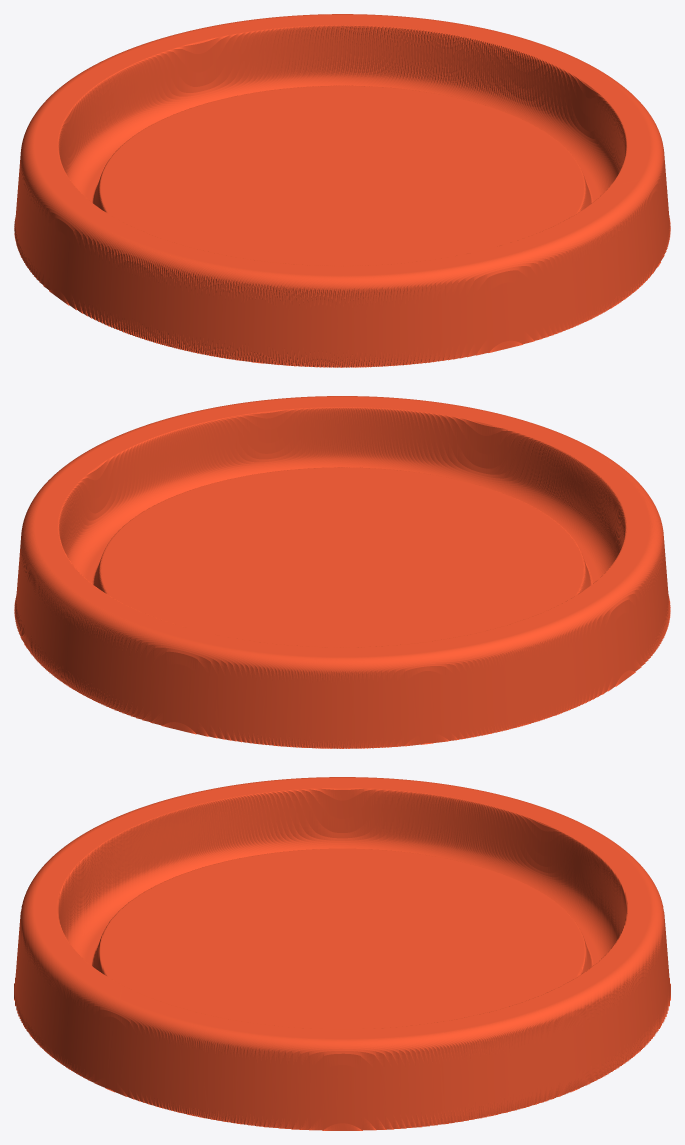
Rendered from mold.glb.
3 views of the same model, one above another, from view 1: azimuth 30°, elevation 25°; view 2: azimuth 150°, elevation 25°; view 3: azimuth 270°, elevation 25° (orthographic).
Visible parts, largest first — view 1: geometry_0; view 2: geometry_0; view 3: geometry_0.
Boxes of the visible parts, x1,y1,x2,y2 form: geometry_0: (14,14,670,367); geometry_0: (14,396,670,748); geometry_0: (14,777,670,1130).
Bounding box in the file's own units: 0.1178 × 0.0165 × 0.1178.
